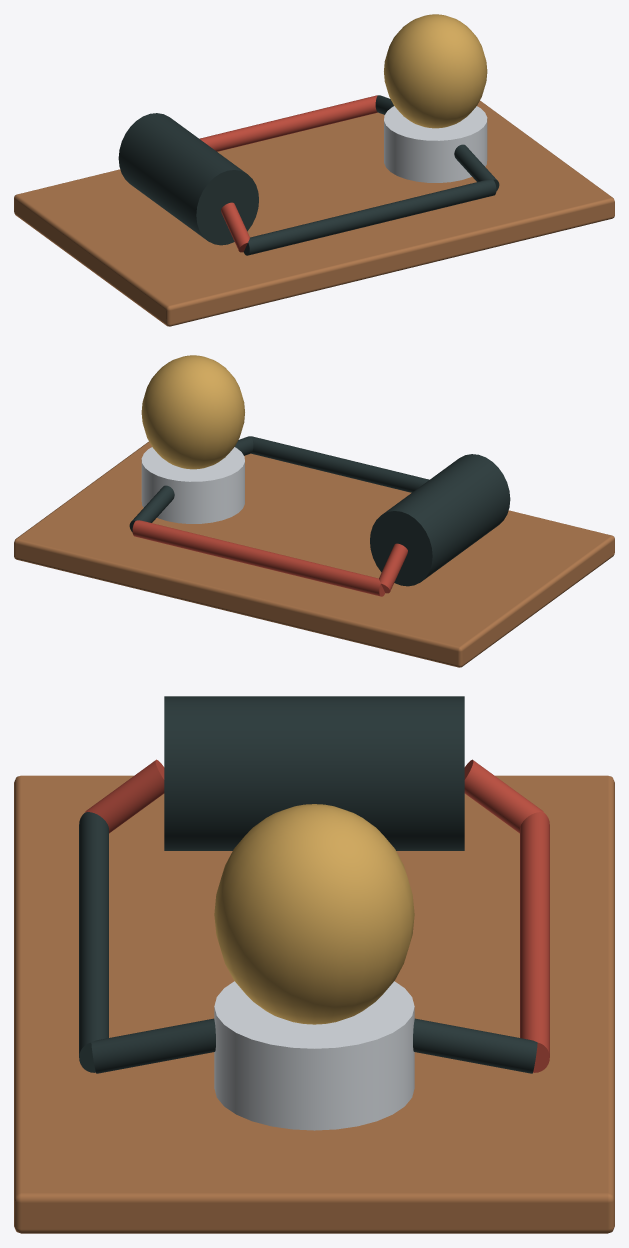
The model's file is wp-circuit-pile-et-ampoule.glb.
3 renders of one model, top to bottom at view 1: azimuth 30°, elevation 25°; view 2: azimuth 150°, elevation 25°; view 3: azimuth 270°, elevation 25°, orthographic. The views are drawn at different scales.
Parts seen in each view (by area): view 1: wp-circuit-pile-et-ampoule; view 2: wp-circuit-pile-et-ampoule; view 3: wp-circuit-pile-et-ampoule.
Boxes of the visible parts, x1,y1,x2,y2 form: wp-circuit-pile-et-ampoule: (14, 14, 614, 326); wp-circuit-pile-et-ampoule: (14, 355, 614, 667); wp-circuit-pile-et-ampoule: (14, 696, 614, 1233).
Bounding box in the file's own units: 0.5 × 0.18 × 0.3.
